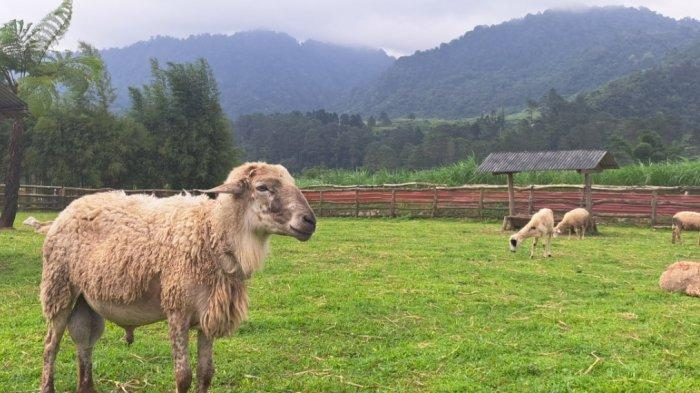Sheep: (194, 152, 328, 258), (507, 230, 524, 256), (548, 220, 564, 240)
